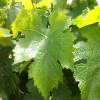grape leaf: (12, 9, 78, 99)
